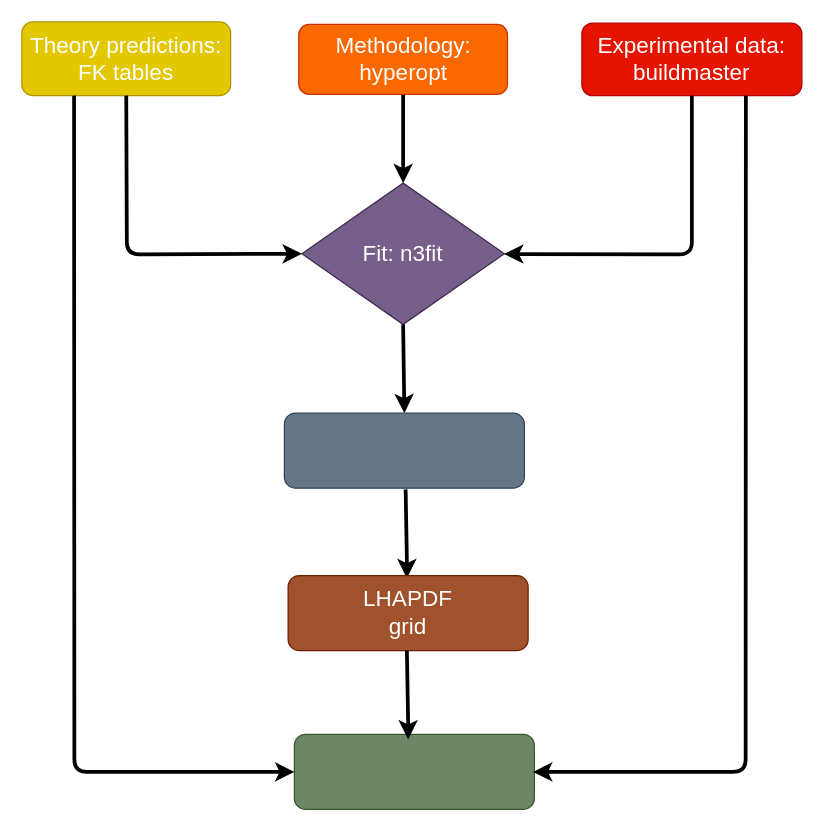
Some shapes in this 824 by 831 pixel diagram are drawn without their labels. The shapes that lost their labels are listed below. From the top down, each one's centre as x and y in pixels, then its label:
At pixel 403 450: "Postfit selection".
At pixel 413 771: "Fit analysis: validphys".
